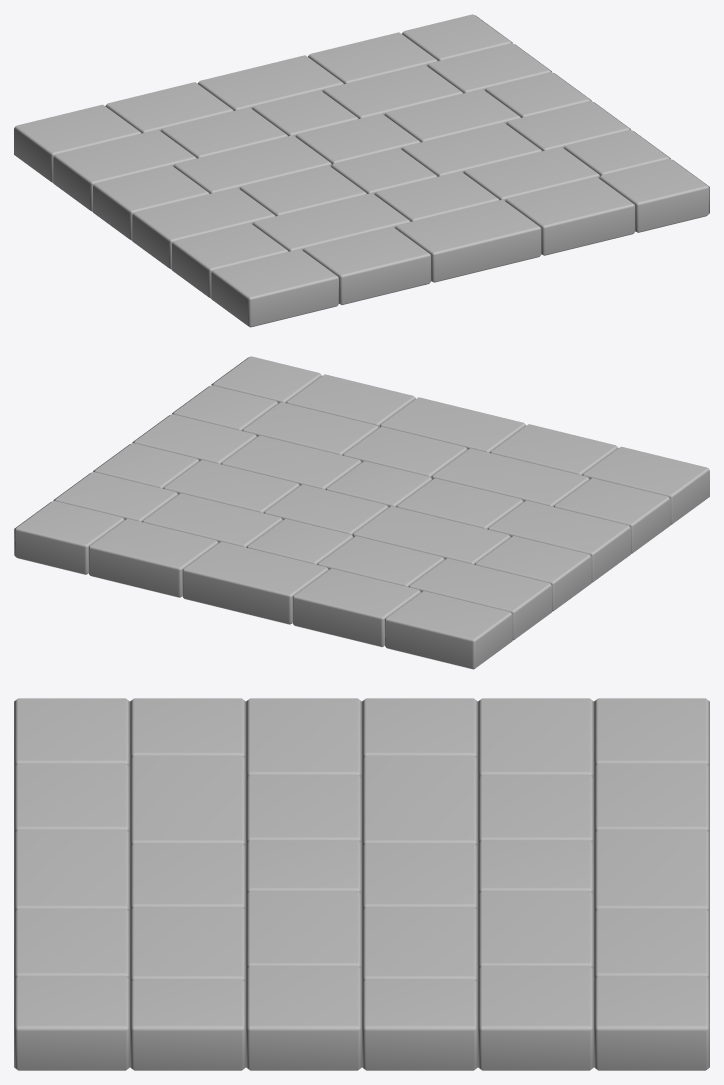
File: City_10_Base_1.glb
3 views of the same model, one above another, from view 1: azimuth 30°, elevation 25°; view 2: azimuth 150°, elevation 25°; view 3: azimuth 270°, elevation 25° (orthographic). The views are drawn at different scales.
Parts seen in each view (by area): view 1: City_10_Base_1; view 2: City_10_Base_1; view 3: City_10_Base_1.
Part boxes in pixels (left/top/right/bottom): City_10_Base_1: left=14, top=14, right=709, bottom=327; City_10_Base_1: left=14, top=356, right=709, bottom=669; City_10_Base_1: left=14, top=698, right=709, bottom=1070.
Bounding box in the file's own units: 9.85 × 0.6294 × 8.74.
Materials: 1 (1 with a texture image).
